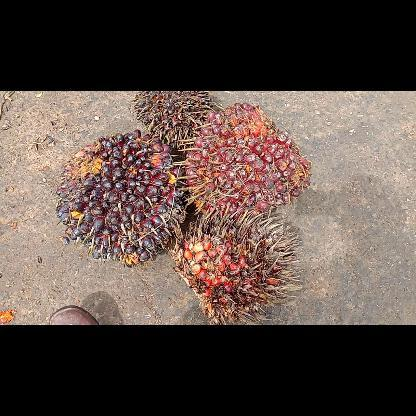Kurang masak: (53, 127, 185, 269)
TBS abnormal: (132, 90, 212, 148)
TBS masak: (181, 100, 311, 218)
Terlalu masak: (167, 200, 303, 324)
